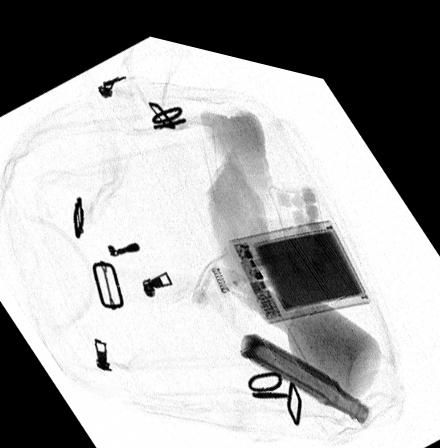Powerbank: (229, 201, 372, 311)
